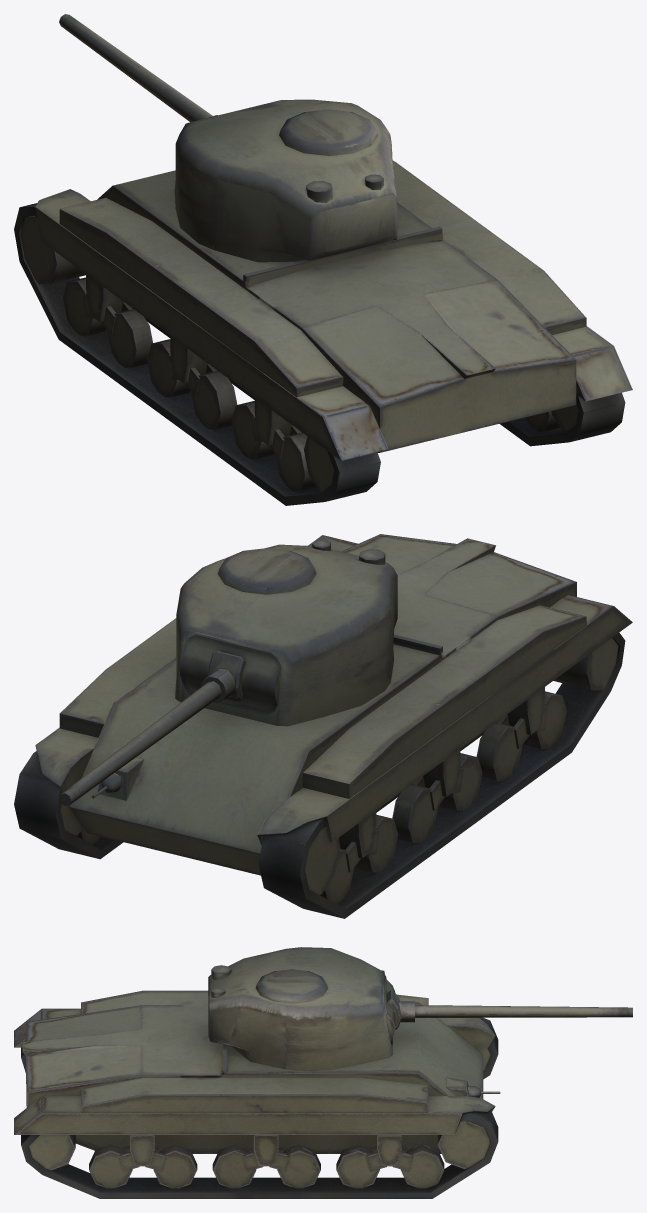
3 renders of one model, top to bottom at view 1: azimuth 30°, elevation 25°; view 2: azimuth 150°, elevation 25°; view 3: azimuth 270°, elevation 25°, orthographic. The views are drawn at different scales.
Parts seen in each view (by area): view 1: T20 Hull, T20 Turret; view 2: T20 Hull, T20 Turret; view 3: T20 Hull, T20 Turret.
Part boxes in pixels (x1,y1,x2,y2): T20 Hull: (14,160,632,505); T20 Turret: (59,14,397,262); T20 Hull: (14,534,632,918); T20 Turret: (59,539,397,805); T20 Hull: (14,990,500,1198); T20 Turret: (208,947,632,1070).
Bounding box in the file's own units: 3.1 × 2.45 × 7.78.
